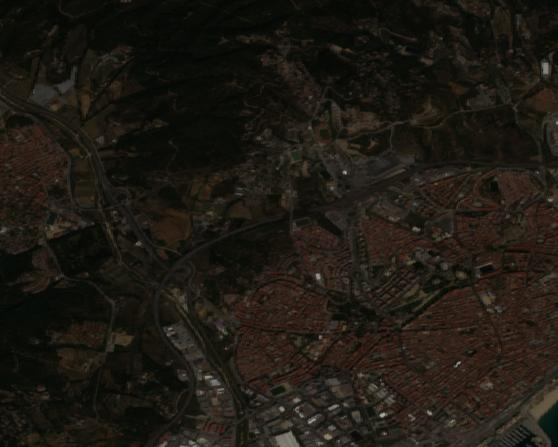Industria: (227, 38, 418, 209), (131, 286, 253, 447), (194, 369, 409, 447)
Poblacion: (242, 162, 558, 447), (0, 91, 91, 249)
